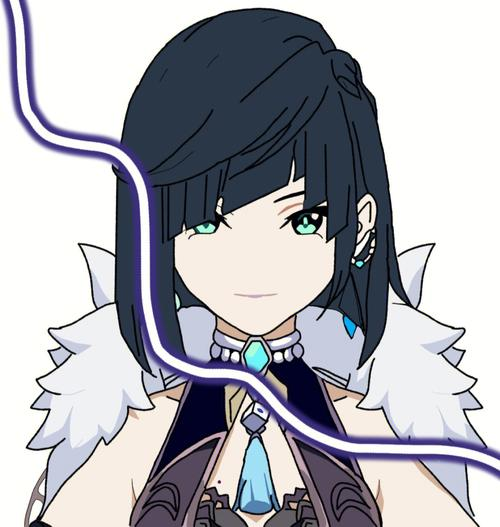夜兰: (36, 8, 486, 527)
